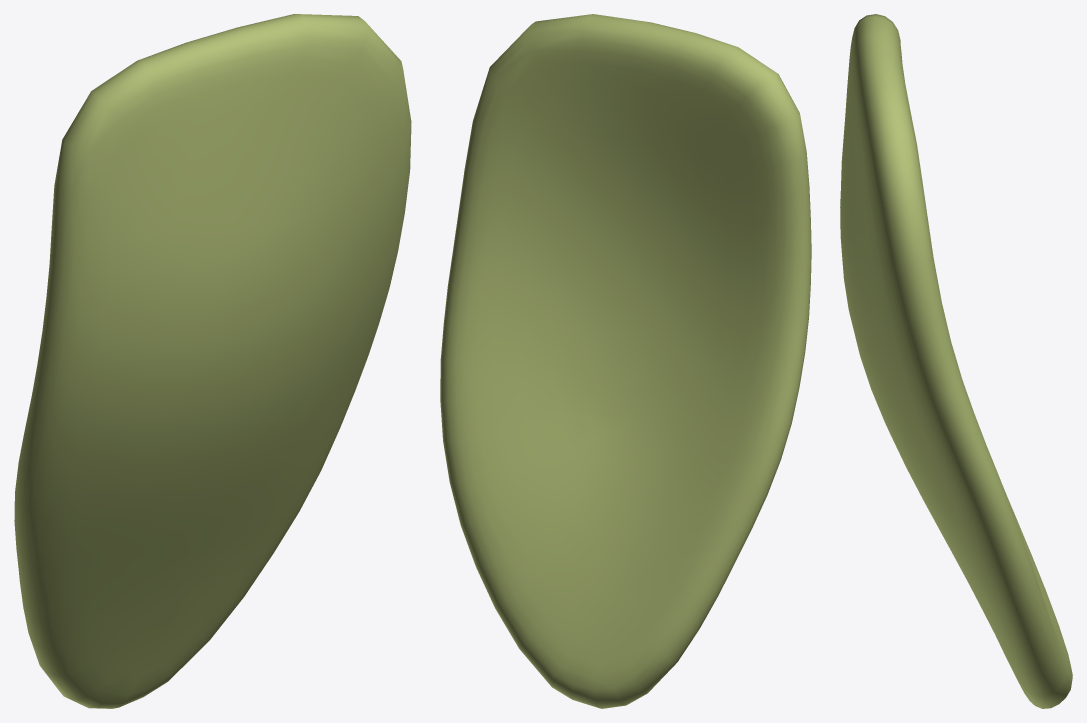
Rendered from BR1_Enamel_Diamond.001.glb.
The picture shows the model from 3 angles, left to right: view 1: azimuth 30°, elevation 25°; view 2: azimuth 150°, elevation 25°; view 3: azimuth 270°, elevation 25°; orthographic projection. The views are drawn at different scales.
Visible parts, largest first — view 1: BR1_Enamel_Diamond.001; view 2: BR1_Enamel_Diamond.001; view 3: BR1_Enamel_Diamond.001.
Boxes of the visible parts, <box> form: BR1_Enamel_Diamond.001: <box>14,14,411,708</box>; BR1_Enamel_Diamond.001: <box>440,14,811,708</box>; BR1_Enamel_Diamond.001: <box>840,14,1072,708</box>.
Bounding box in the file's own units: 0.5033 × 0.9109 × 0.2915.
